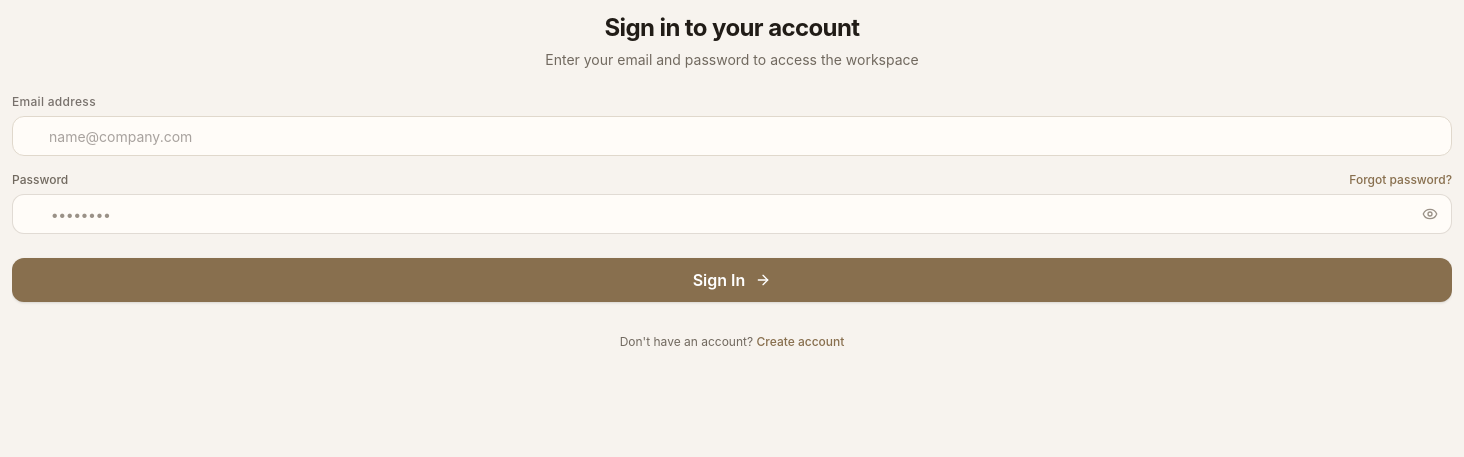
Test: Authentication Flow & Security Hardening › redirects unverified user to verify email during login
In the field with placeholder "name@company.com": (732, 136) [12,116,1452,156], type "unverified@example.com"
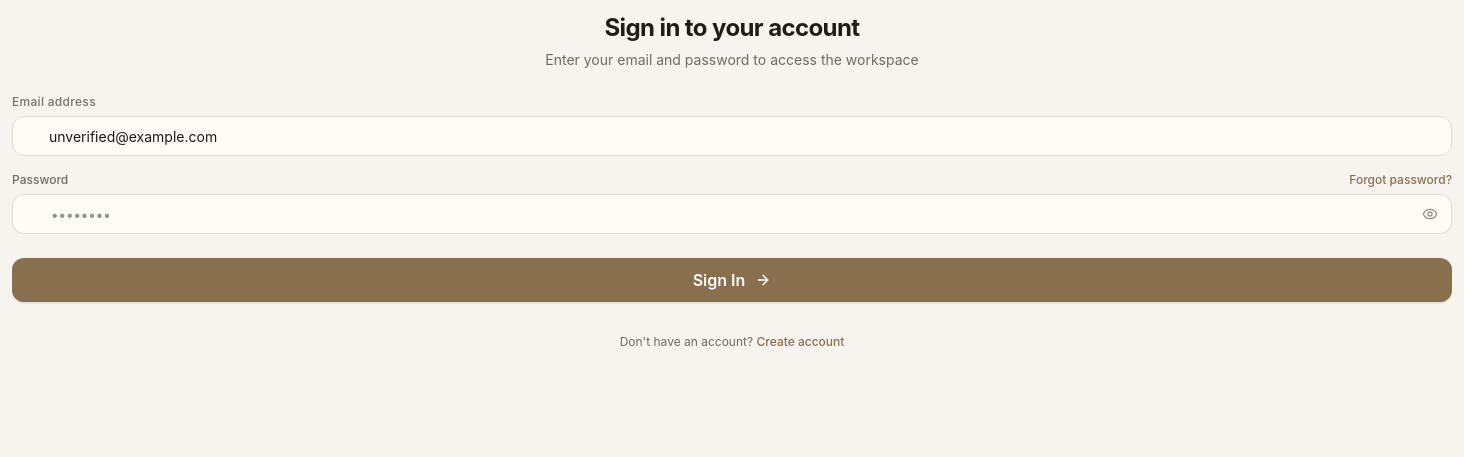
In the password field with placeholder "••••••••": (732, 214) [12,194,1452,234], type "password123"
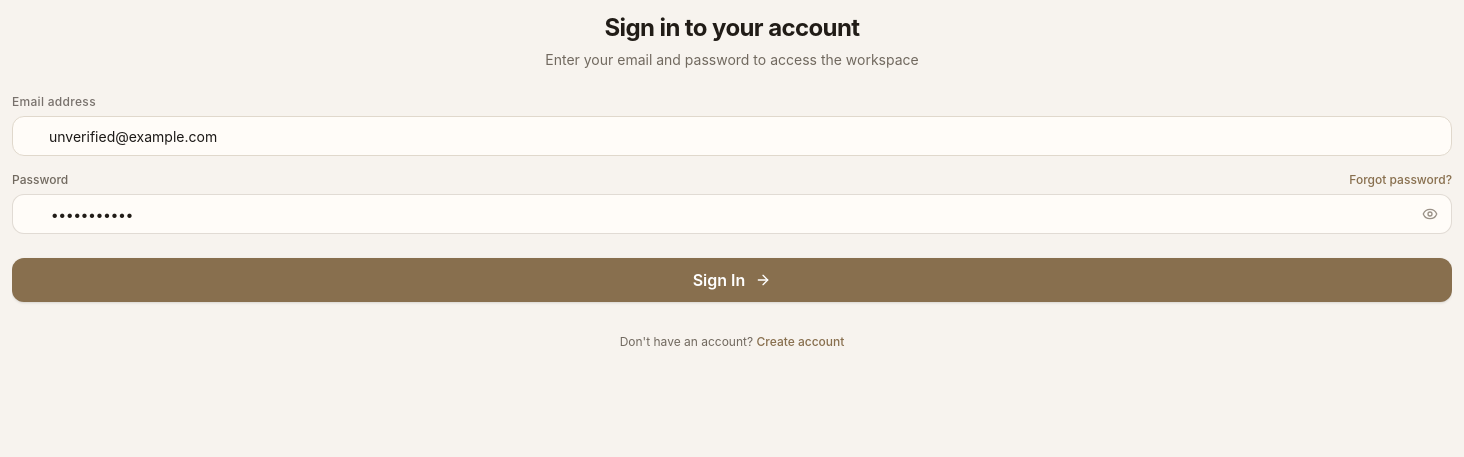
Click the button "Sign In": (732, 280) [12,258,1452,302]
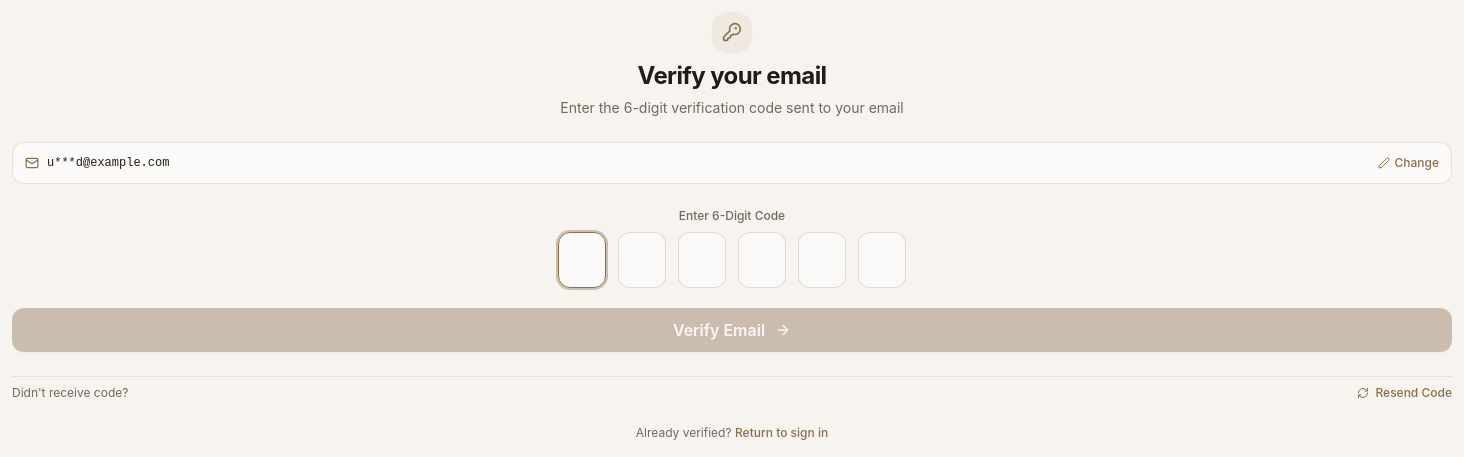
Expected: the heading "Verify your email" is shown, [638,61,826,90]
